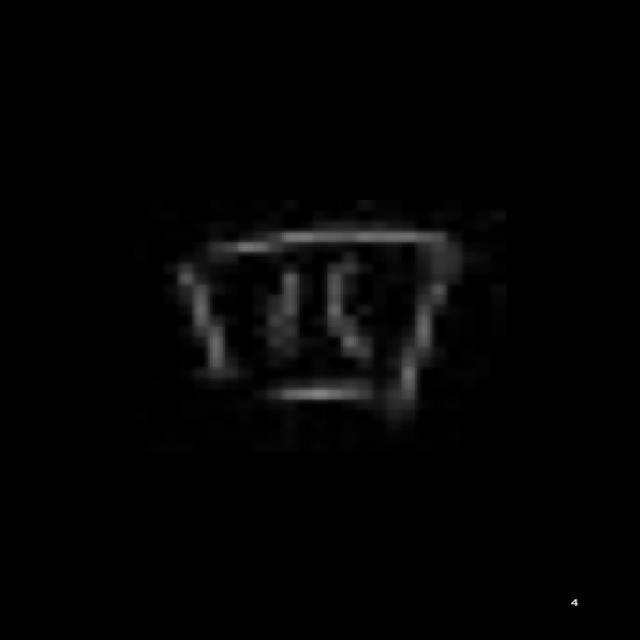4 -four-: (158, 213, 472, 429)
